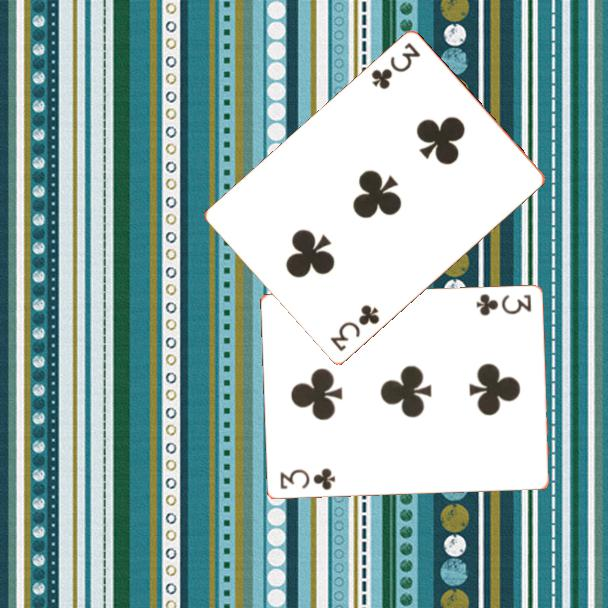c03: (326, 301, 383, 355), (367, 39, 423, 93), (276, 465, 338, 493), (472, 291, 534, 319)
